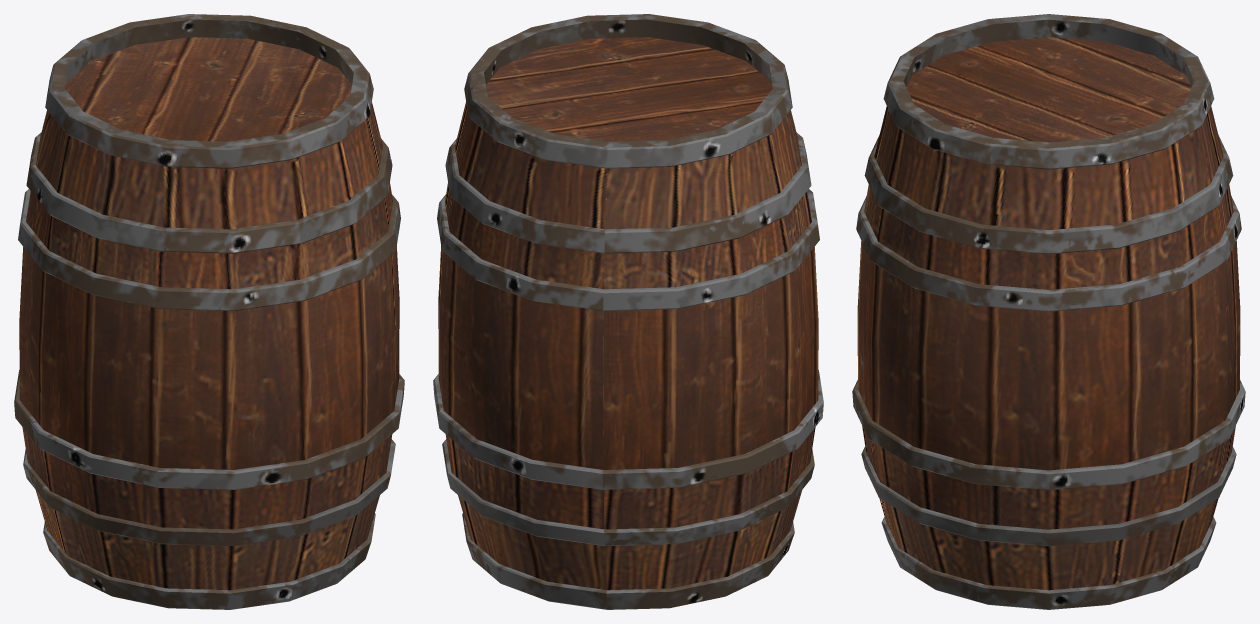
The model's file is barril.obj.
3 renders of one model, left to right at view 1: azimuth 30°, elevation 25°; view 2: azimuth 150°, elevation 25°; view 3: azimuth 270°, elevation 25°, orthographic.
Parts seen in each view (by area): view 1: Cylinder; view 2: Cylinder; view 3: Cylinder.
Part boxes in pixels (box(x1,y1,x2,y2)): Cylinder: box(14, 14, 404, 609); Cylinder: box(433, 14, 823, 609); Cylinder: box(852, 14, 1245, 609).
Bounding box in the file's own units: 2.19 × 2.84 × 2.19.
